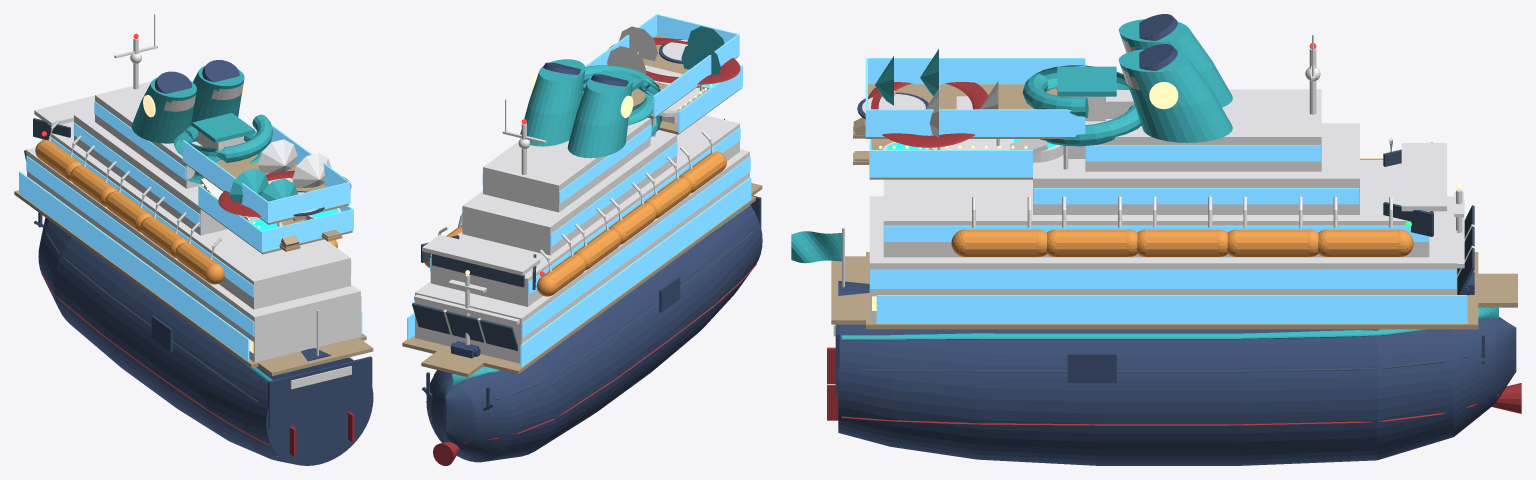
File: sunmarque_tropical_mega_cruiser.glb
The picture shows the model from 3 angles, left to right: view 1: azimuth 30°, elevation 25°; view 2: azimuth 150°, elevation 25°; view 3: azimuth 270°, elevation 25°; orthographic projection. The views are drawn at different scales.
Visible parts, largest first — view 1: hull, block_A, block_B, rail_main_P, transom, band_A, block_C, block_D, funnel_P, slide_helix, rail_lido_aft, rail_sport_aft (+29 smaller); view 2: hull, block_C, block_A, block_D, block_B, rail_main_P, funnel_P, funnel_S, band_A, bridge_visor, deck_main, rail_sport_P (+30 smaller); view 3: hull, rail_main_S, block_B, block_A, band_A, block_C, block_D, funnel_S, rail_sport_S, band_C, rail_lido_S, rail_sport_P (+25 smaller).
Boxes of the visible parts, box(x1,y1,x2,y2) form: hull: box(38, 217, 373, 465); block_A: box(27, 148, 360, 362); block_B: box(51, 121, 350, 309); rail_main_P: box(19, 171, 249, 361); transom: box(268, 356, 372, 428); band_A: box(26, 156, 361, 336); block_C: box(74, 110, 227, 235); block_D: box(95, 81, 245, 188); funnel_P: box(131, 77, 196, 143); slide_helix: box(174, 114, 273, 183); rail_lido_aft: box(261, 209, 353, 252); rail_sport_aft: box(267, 182, 350, 223); hull: box(426, 205, 762, 462); block_C: box(462, 130, 676, 255); block_A: box(415, 149, 749, 363); block_D: box(483, 118, 650, 212); block_B: box(430, 115, 739, 306); rail_main_P: box(520, 177, 751, 367); funnel_P: box(567, 71, 633, 158); funnel_S: box(520, 59, 585, 146); band_A: box(414, 156, 750, 337); bridge_visor: box(422, 234, 540, 275); deck_main: box(402, 196, 755, 374); rail_sport_P: box(653, 34, 739, 117); hull: box(838, 281, 1516, 465); rail_main_S: box(876, 295, 1467, 323); block_B: box(883, 160, 1429, 257); block_A: box(869, 196, 1457, 321); band_A: box(870, 269, 1456, 288); block_C: box(1033, 123, 1359, 214); block_D: box(1085, 89, 1321, 171); funnel_S: box(1118, 49, 1232, 142); rail_sport_S: box(866, 109, 1085, 136); band_C: box(1033, 188, 1359, 204); rail_lido_S: box(869, 150, 1032, 177); rail_sport_P: box(868, 58, 1085, 84).
Size of the model in its own units: 5.64 by 13.77 by 21.
